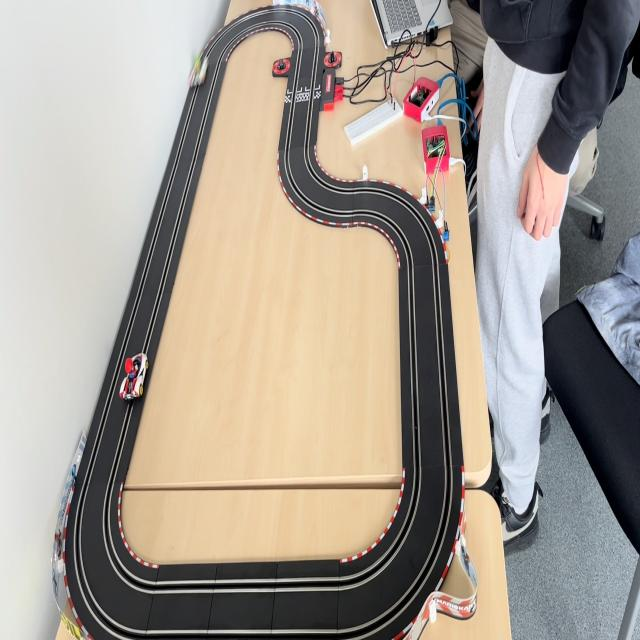mario: (119, 349, 149, 404)
yoshi: (186, 55, 212, 88)
